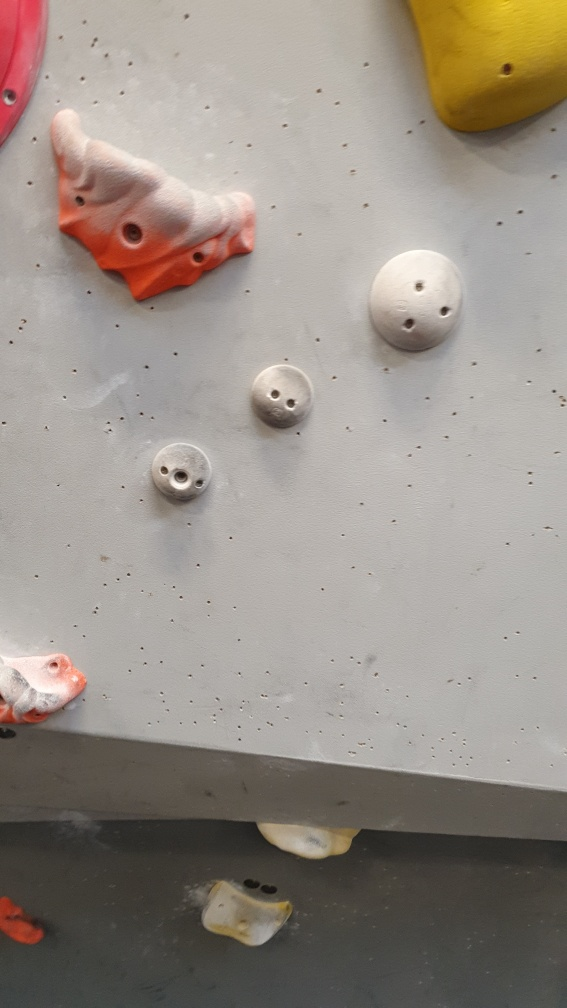Hand Start: (259, 877, 279, 898), (241, 871, 260, 892), (1, 723, 19, 744)
Jug: (48, 106, 259, 306), (1, 646, 93, 727), (1, 895, 49, 946)
Sloper: (363, 243, 472, 361), (248, 361, 317, 432), (151, 438, 214, 503)
